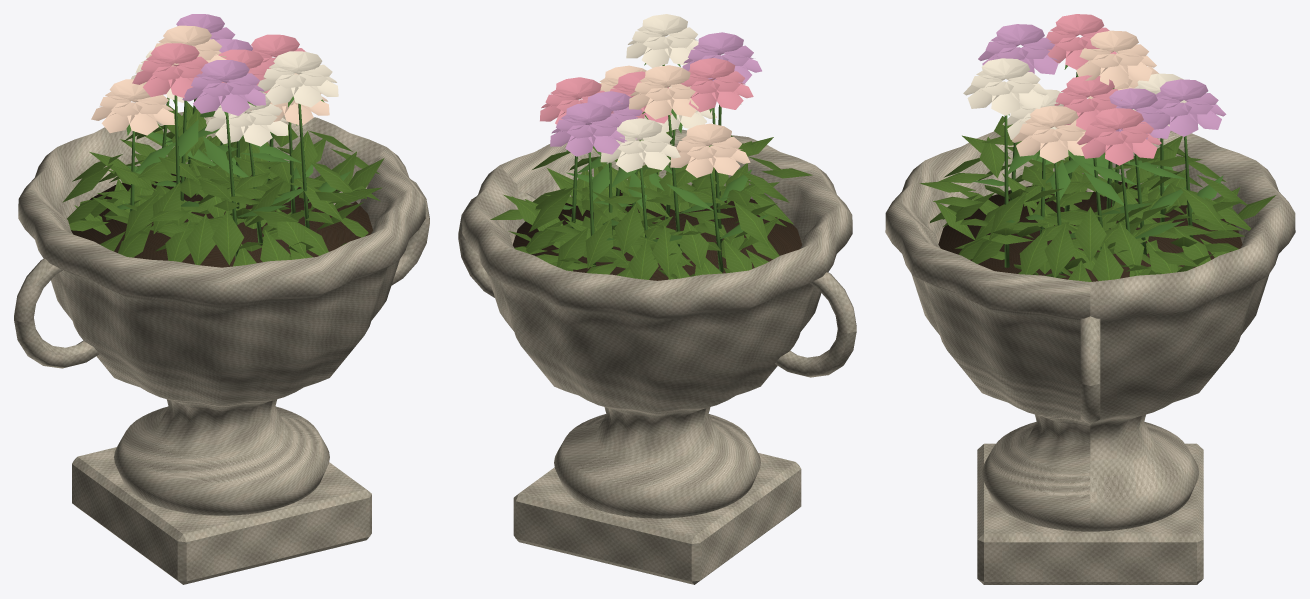
File: urn.glb
The picture shows the model from 3 angles, left to right: view 1: azimuth 30°, elevation 25°; view 2: azimuth 150°, elevation 25°; view 3: azimuth 270°, elevation 25°; orthographic projection. The views are drawn at different scales.
Visible parts, largest first — view 1: Garden_urn; view 2: Garden_urn; view 3: Garden_urn.
Part boxes in pixels (x1,y1,x2,y2): Garden_urn: (14, 14, 429, 584); Garden_urn: (458, 14, 856, 584); Garden_urn: (885, 14, 1295, 584).
Size of the model in its own units: 1.11 by 1.24 by 0.9432.
Materials: 5 (3 with a texture image).
